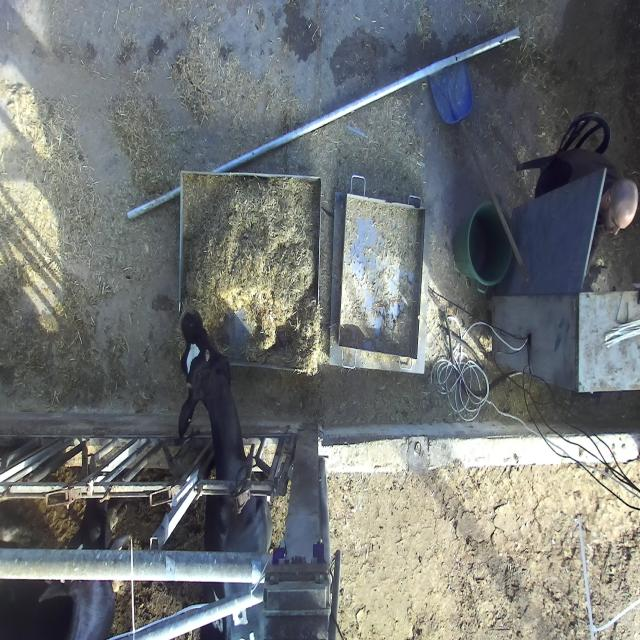cow: (38, 498, 126, 605), (174, 311, 235, 443)
